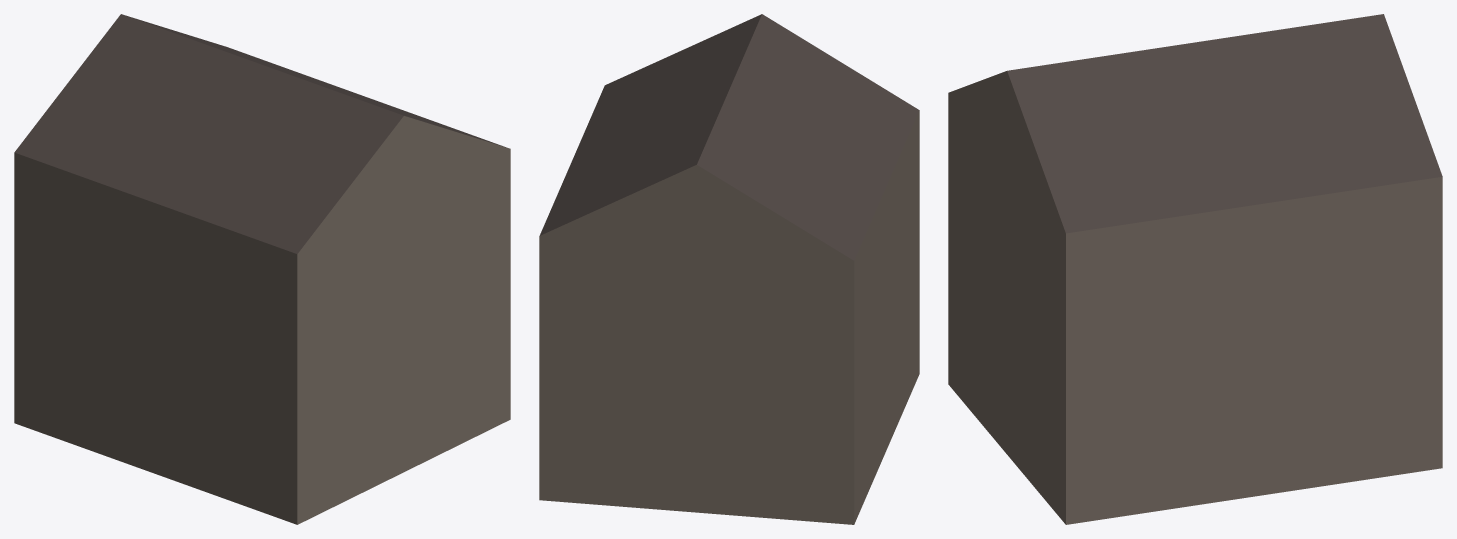
The picture shows the model from 3 angles, left to right: view 1: azimuth 30°, elevation 25°; view 2: azimuth 150°, elevation 25°; view 3: azimuth 270°, elevation 25°; orthographic projection. The views are drawn at different scales.
Parts seen in each view (by area): view 1: HP-w859457369; view 2: HP-w859457369; view 3: HP-w859457369.
Boxes of the visible parts, box(x1,y1,x2,y2) form: HP-w859457369: box(14, 14, 510, 524); HP-w859457369: box(539, 14, 919, 524); HP-w859457369: box(948, 14, 1442, 524).
Bounding box in the file's own units: 8.72 × 7.9 × 9.22.
